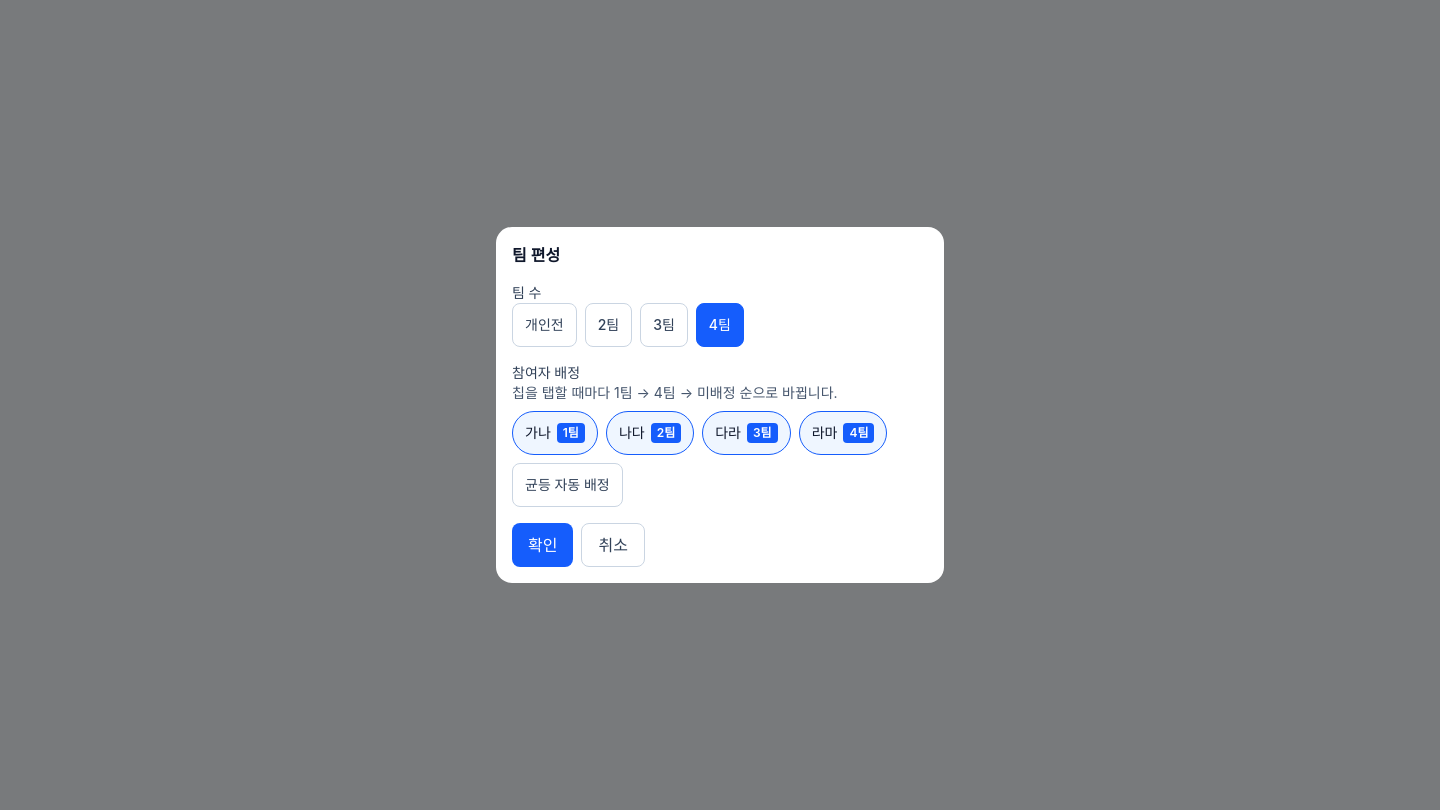
Scenario: TeamSheet › 팀 수를 줄이면 사라진 팀의 인원이 미배정으로 돌아간다
Click the button "2팀": (608, 325) [585,303,632,347]
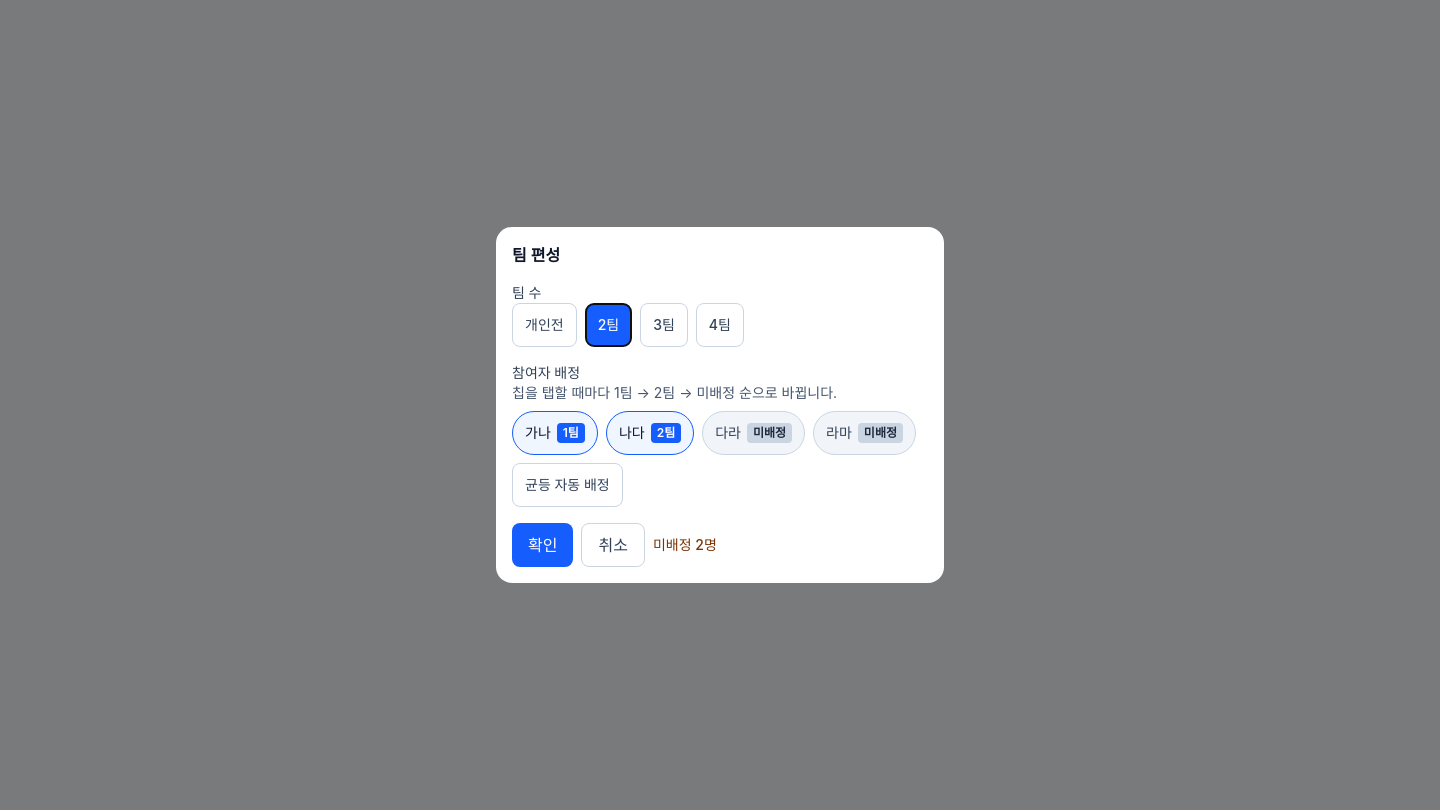
Expected: the text "1팀" is shown, [557,423,585,443]
Result: the 1st text "미배정" is shown at [747,423,792,443]
